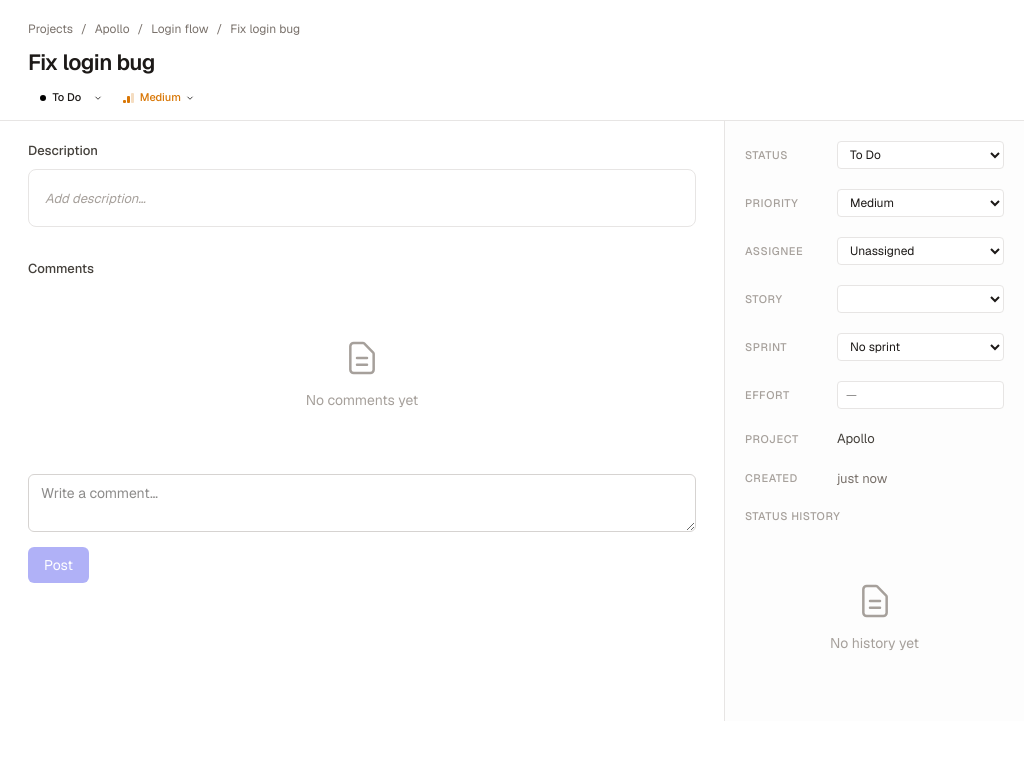
TaskDetailPage click-to-edit title › replaces the heading with an editable input on click
This screenshot has width=1024, height=768.
Click the heading "Fix login bug": (91, 62) [28, 48, 155, 76]
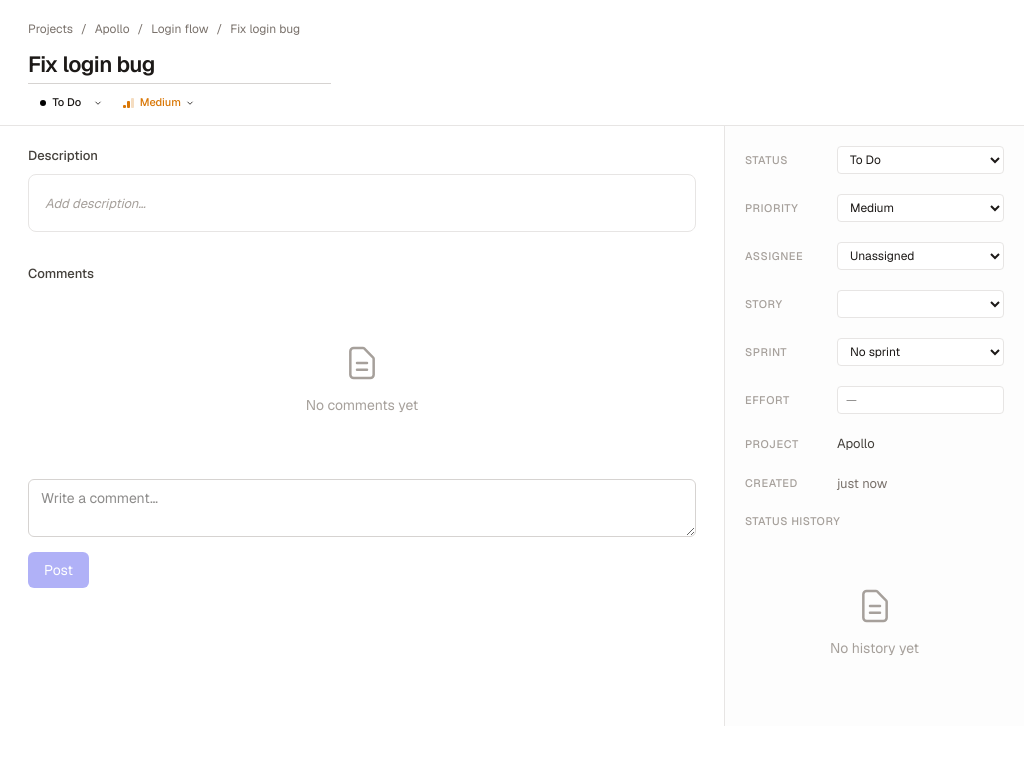
expect the field showing "Fix login bug" is shown: met, box [28, 46, 331, 84]
